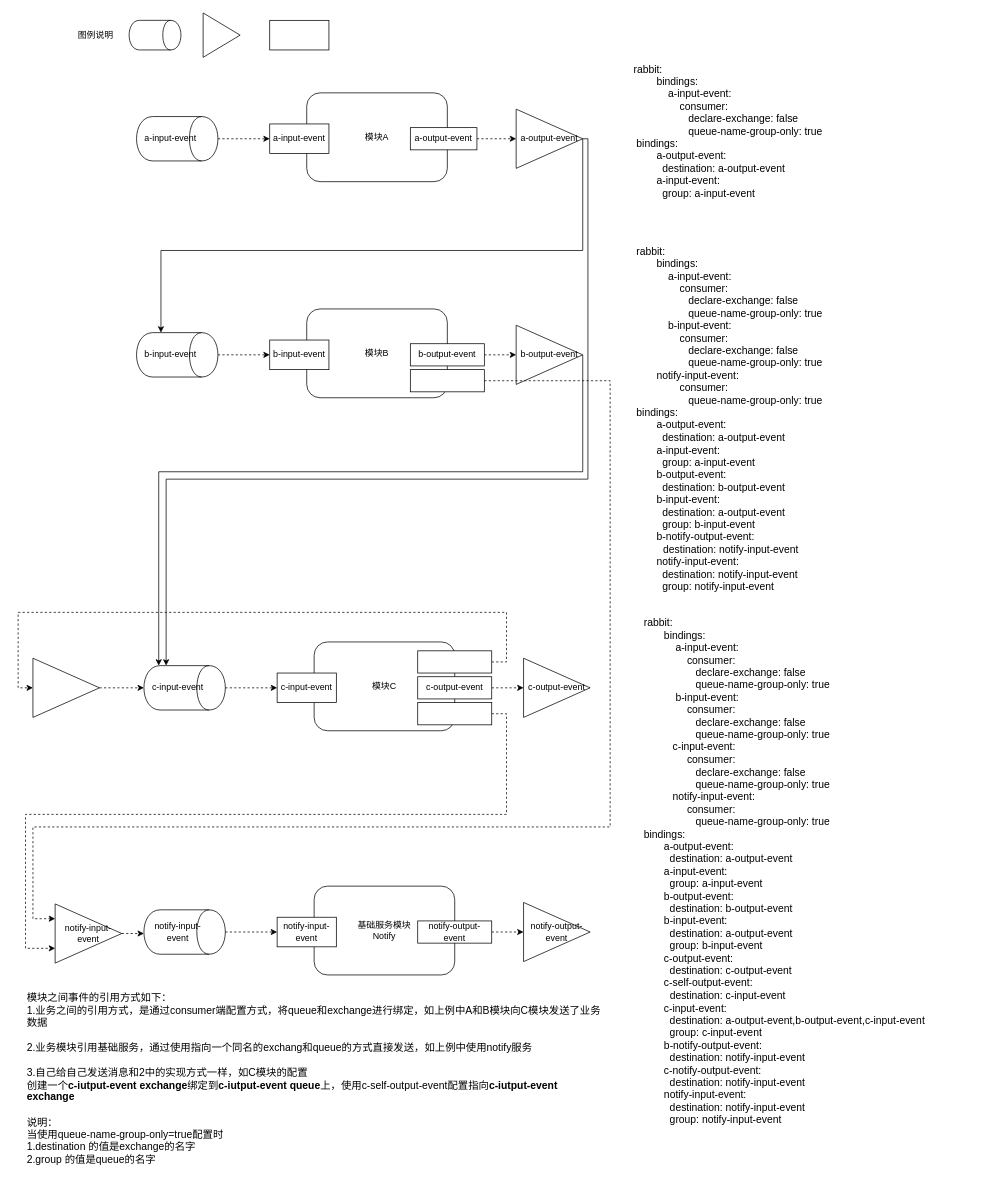
Some shapes in this 1000 by 1178 pixel diagram are drawn without their labels. The shapes that lost their labels are listed below. From the top down, each one's centre as x and y in pixels, then its label:
point (154, 35): Queue
point (221, 34): Exchange
point (299, 35): channel bean 配置文件中的key
point (447, 380): b-notify-output-event
point (454, 661): c-self-output-event
point (66, 687): c-iutput-event
point (454, 713): c-notify-output-event
